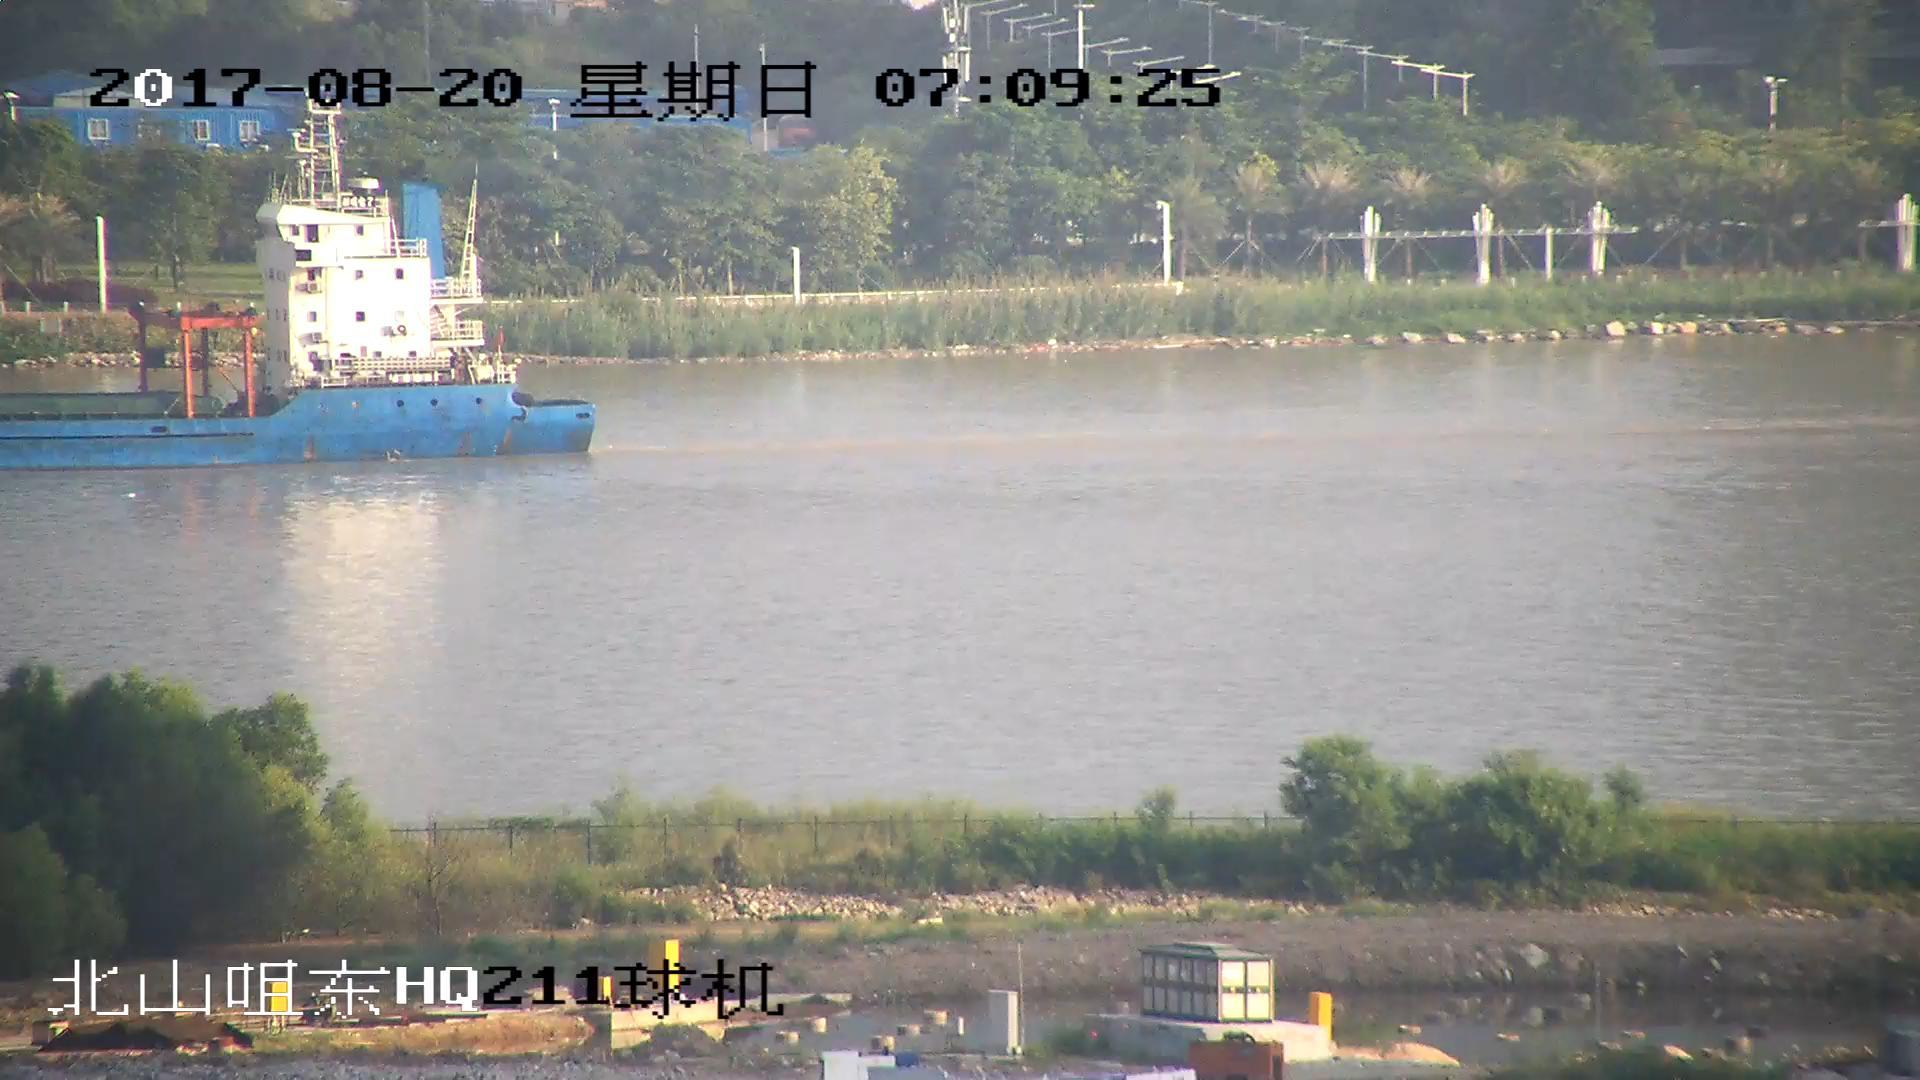Ship: (3, 127, 600, 467)
